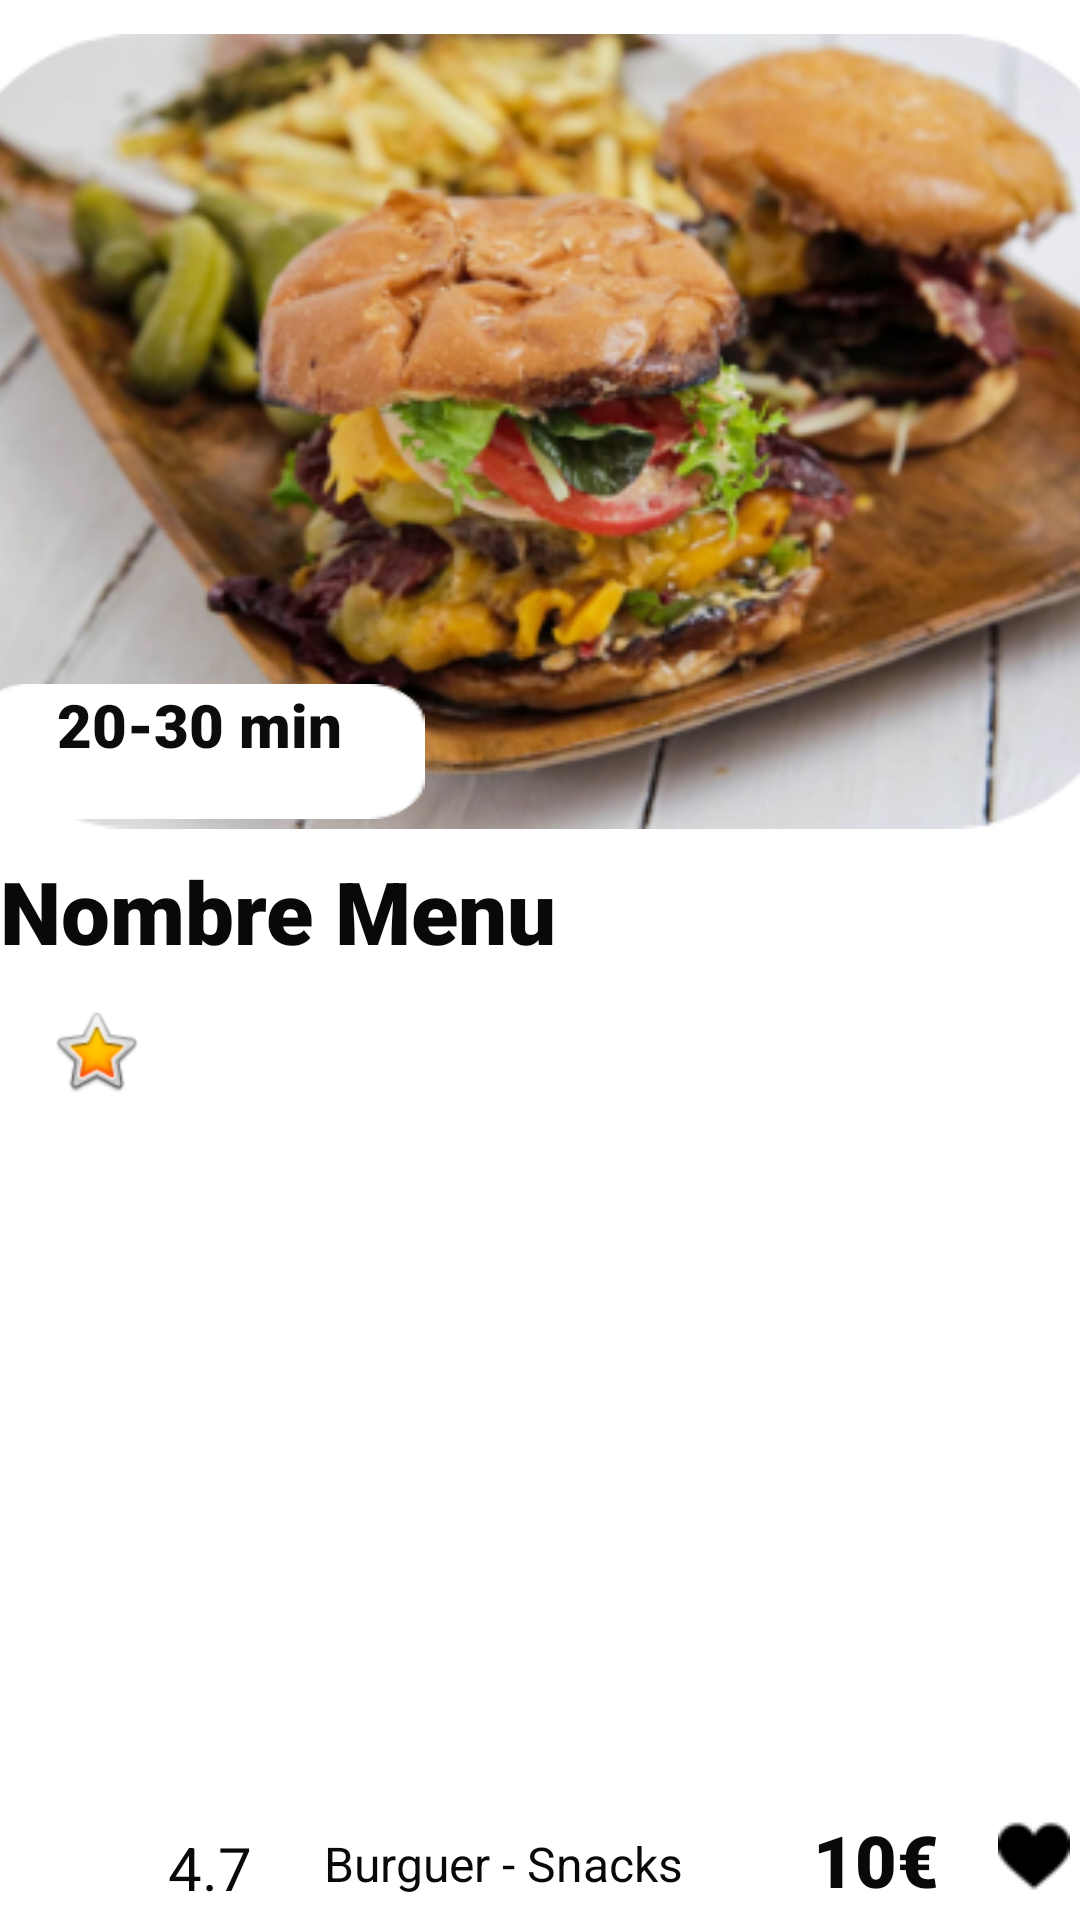

Locate icon controls on the screen. Image size 1080 x 1920, boxes as (x1, y1, x2, y2).
star on: (57, 1013, 137, 1091)
